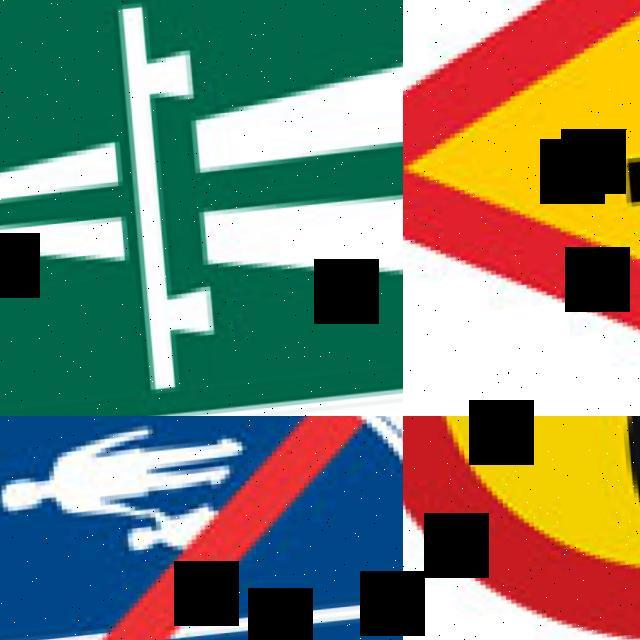166: (403, 0, 640, 416)
34: (403, 416, 640, 640)
Motorway: (0, 0, 403, 416)
no entry for bicycles and humans: (0, 416, 403, 640)
